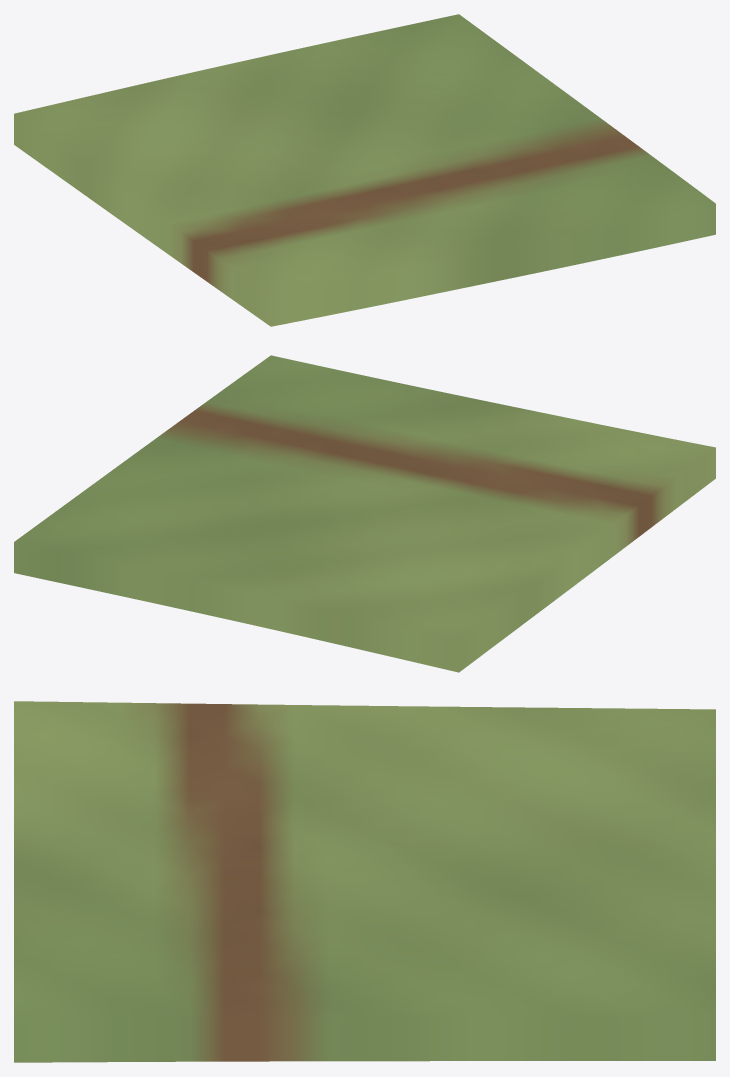
The picture shows the model from 3 angles, top to bottom: view 1: azimuth 30°, elevation 25°; view 2: azimuth 150°, elevation 25°; view 3: azimuth 270°, elevation 25°; orthographic projection. The views are drawn at different scales.
Parts seen in each view (by area): view 1: terrain; view 2: terrain; view 3: terrain.
Part boxes in pixels (box(x1,y1,x2,y2)): terrain: box(14, 14, 715, 326); terrain: box(14, 355, 715, 672); terrain: box(14, 701, 715, 1062).
Bounding box in the file's own units: 30 × 3.06 × 30.
